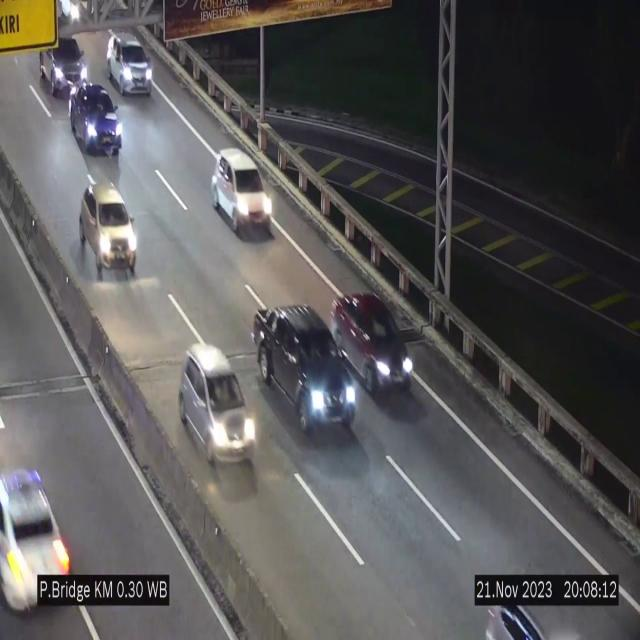Car: (0, 432, 84, 610), (256, 302, 360, 444), (184, 343, 258, 472), (336, 290, 416, 404), (76, 174, 136, 276), (211, 149, 273, 237), (64, 82, 130, 159), (478, 604, 598, 640), (34, 24, 95, 90), (107, 32, 153, 95)
